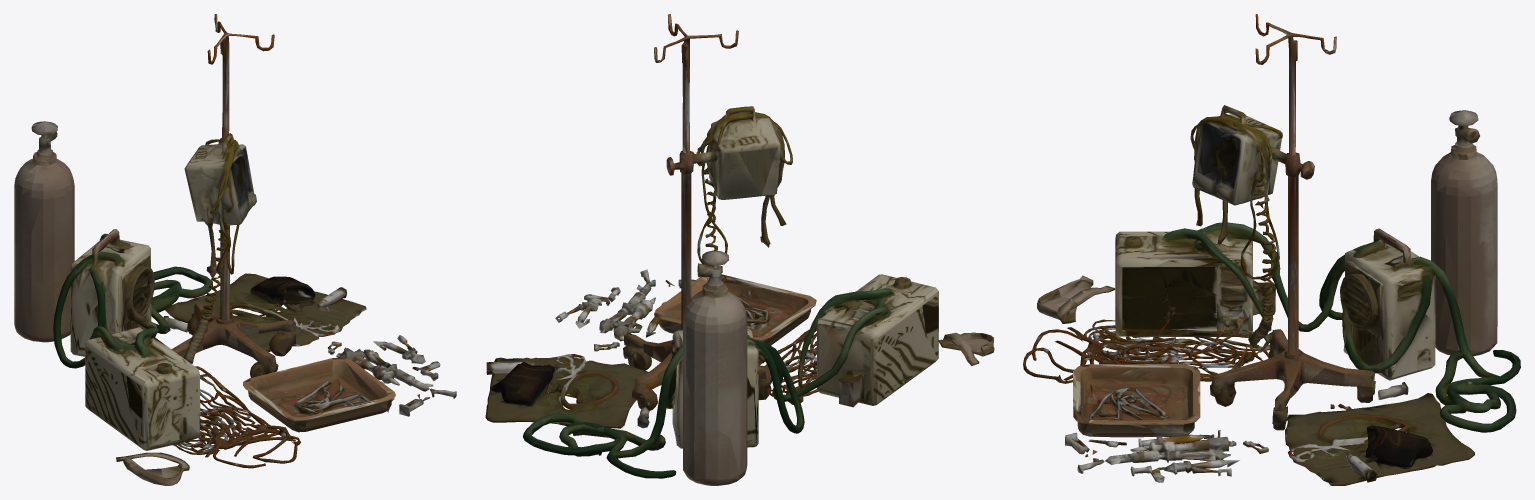
Rendered from cosasmedicas.fbx.
3 renders of one model, left to right at view 1: azimuth 30°, elevation 25°; view 2: azimuth 150°, elevation 25°; view 3: azimuth 270°, elevation 25°, orthographic. The views are drawn at different scales.
Parts seen in each view (by area): view 1: tripo_node_60d5249c.001; view 2: tripo_node_60d5249c.001; view 3: tripo_node_60d5249c.001.
Boxes of the visible parts, box(x1,y1,x2,y2) form: tripo_node_60d5249c.001: box(14, 14, 456, 485); tripo_node_60d5249c.001: box(485, 14, 994, 485); tripo_node_60d5249c.001: box(1023, 14, 1520, 485).
Bounding box in the file's own units: 91.93 × 82.33 × 99.89.
